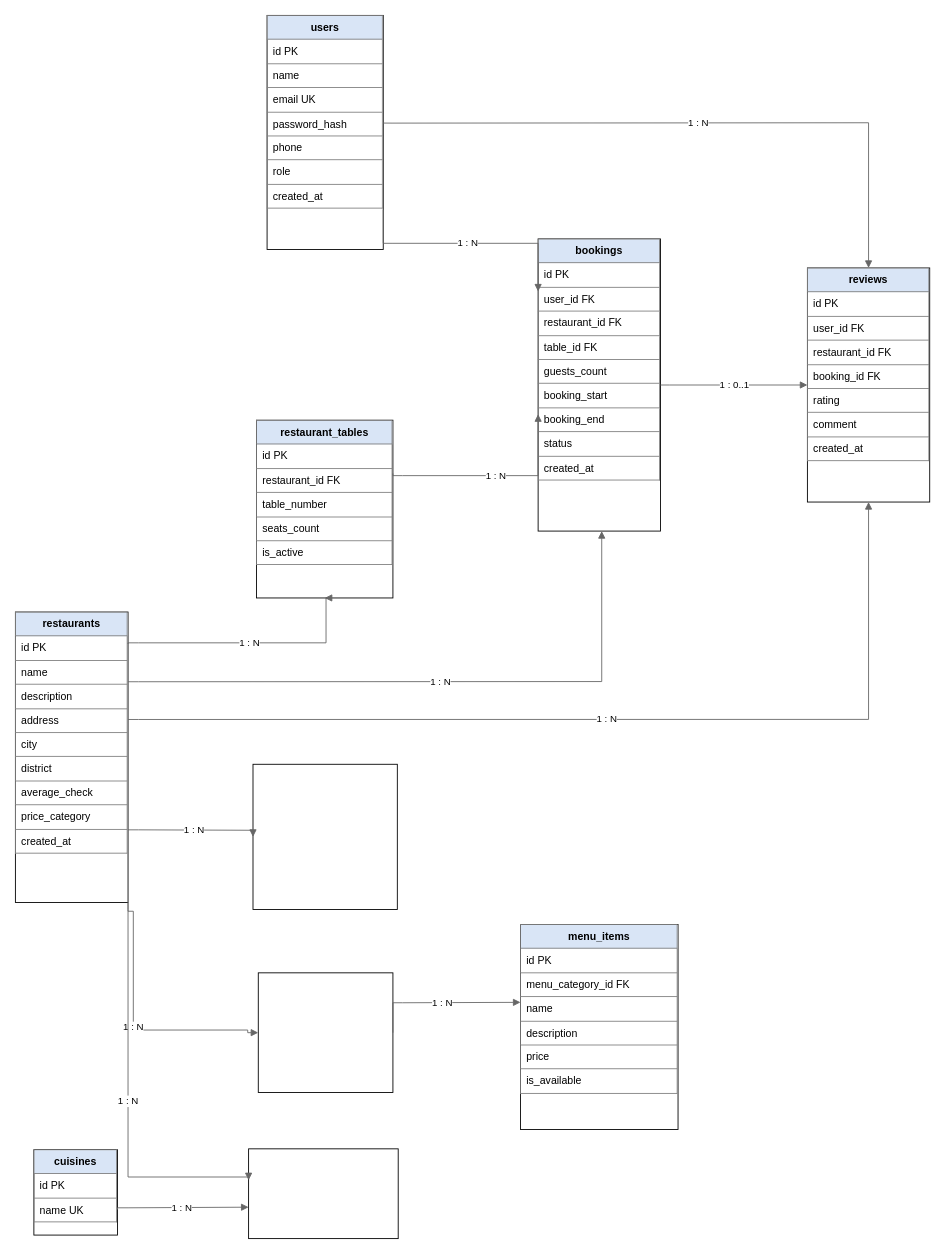
The diagram is 945 pixels wide and 1254 high, and some of its shapes have lost their labels. Here are the shapes that lost their labels. From the top down, the centre of each, then its label:
point 324,836: restaurant_photos id PK restaurant_id FK photo_url is_main
point 325,1032: menu_categories id PK restaurant_id FK name
point 323,1193: restaurant_cuisines restaurant_id PK, FK cuisine_id PK, FK
